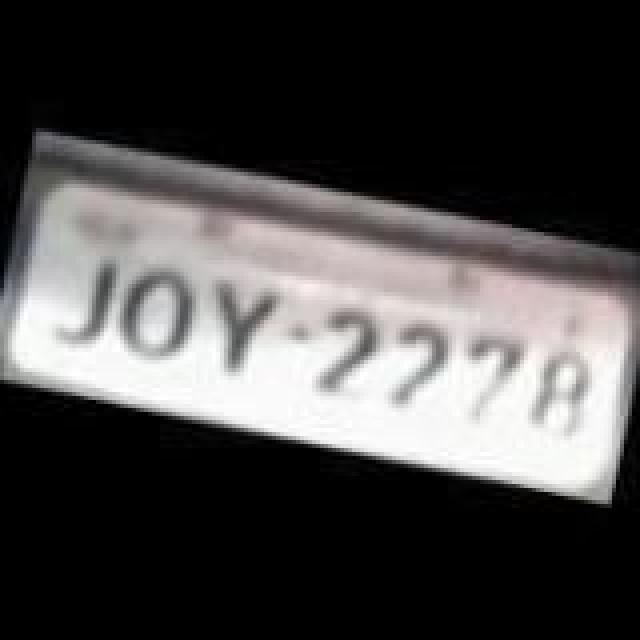2: (288, 296, 392, 412), (370, 314, 462, 422)
7: (448, 326, 532, 434)
8: (518, 332, 606, 452)
J: (36, 242, 124, 358)
O: (104, 252, 208, 376)
Y: (190, 264, 290, 384)
